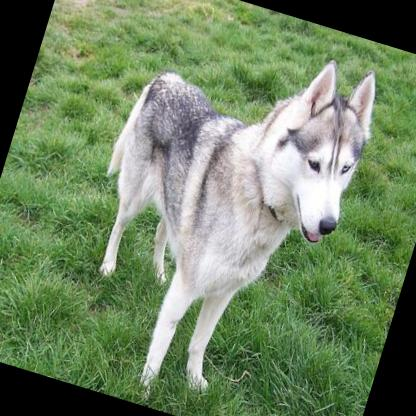Siberian_husky: (42, 1, 388, 416)
